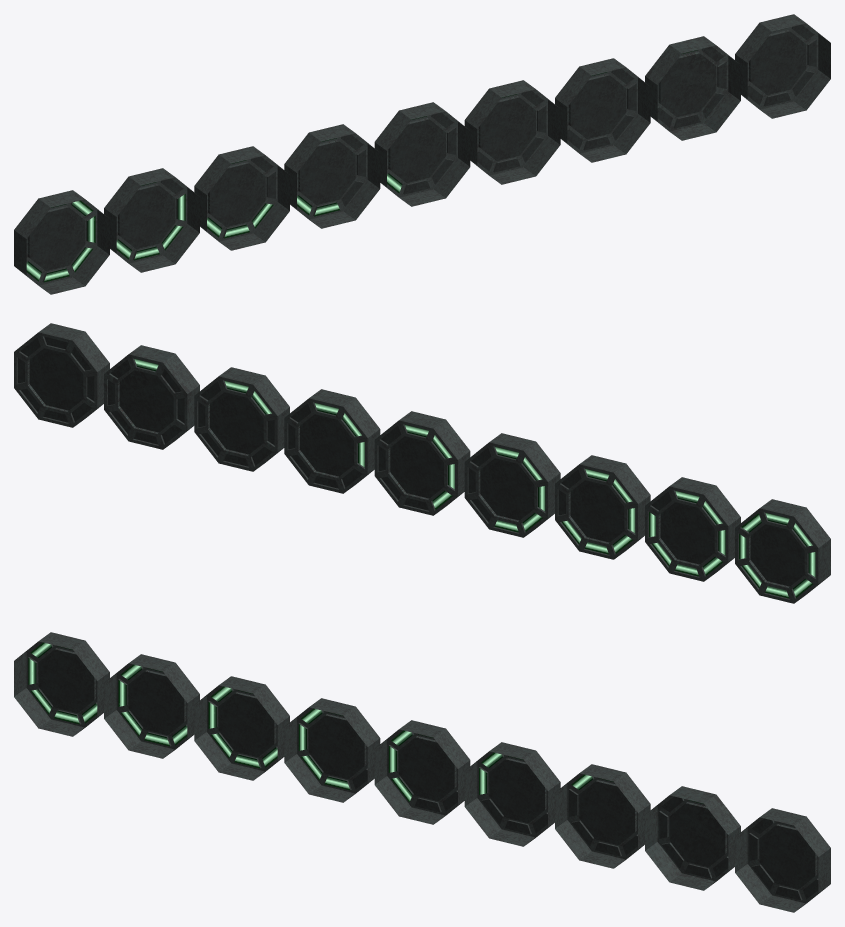
File: NumberPuzzleFrames.fbx
3 views of the same model, one above another, from view 1: azimuth 30°, elevation 25°; view 2: azimuth 150°, elevation 25°; view 3: azimuth 330°, elevation 25° (orthographic).
Visible parts, largest first — view 1: Cylinder.008, Cylinder.002, Cylinder.004, Cylinder.003, Cylinder, Cylinder.001, Cylinder.005, Cylinder.006, Cylinder.007; view 2: Cylinder.008, Cylinder.002, Cylinder.004, Cylinder.003, Cylinder, Cylinder.001, Cylinder.005, Cylinder.006, Cylinder.007; view 3: Cylinder.007, Cylinder.002, Cylinder.004, Cylinder.003, Cylinder.005, Cylinder.006, Cylinder, Cylinder.001, Cylinder.008.
Boxes of the visible parts, bbox=[...] form: Cylinder.008: bbox=[14, 190, 109, 294]; Cylinder.002: bbox=[464, 80, 560, 184]; Cylinder.004: bbox=[284, 124, 380, 228]; Cylinder.003: bbox=[374, 102, 470, 206]; Cylinder: bbox=[645, 36, 740, 140]; Cylinder.001: bbox=[555, 58, 650, 162]; Cylinder.005: bbox=[194, 146, 289, 250]; Cylinder.006: bbox=[104, 168, 199, 272]; Cylinder.007: bbox=[735, 14, 830, 118]; Cylinder.008: bbox=[735, 499, 830, 603]; Cylinder.002: bbox=[284, 389, 380, 493]; Cylinder.004: bbox=[464, 433, 560, 537]; Cylinder.003: bbox=[374, 411, 470, 515]; Cylinder: bbox=[104, 345, 199, 449]; Cylinder.001: bbox=[194, 367, 289, 471]; Cylinder.005: bbox=[555, 455, 650, 559]; Cylinder.006: bbox=[645, 477, 740, 581]; Cylinder.007: bbox=[14, 323, 109, 427]; Cylinder.007: bbox=[735, 808, 830, 912]; Cylinder.002: bbox=[464, 742, 560, 846]; Cylinder.004: bbox=[284, 698, 380, 802]; Cylinder.003: bbox=[374, 720, 470, 824]; Cylinder.005: bbox=[194, 676, 289, 780]; Cylinder.006: bbox=[104, 654, 199, 758]; Cylinder: bbox=[645, 786, 740, 890]; Cylinder.001: bbox=[555, 764, 650, 868]; Cylinder.008: bbox=[14, 632, 109, 736].
Size of the model in its own units: 2033 by 211 by 54.97.
Materials: 3 (2 with a texture image).
